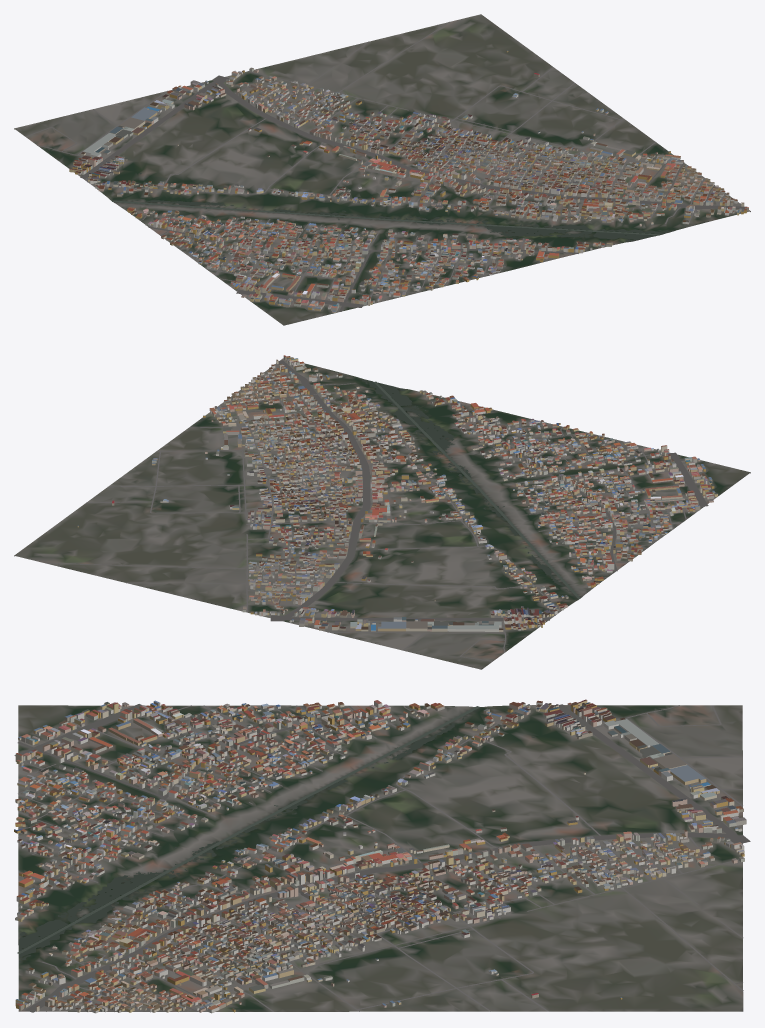
3 views of the same model, one above another, from view 1: azimuth 30°, elevation 25°; view 2: azimuth 150°, elevation 25°; view 3: azimuth 270°, elevation 25° (orthographic). The views are drawn at different scales.
Visible parts, largest first — view 1: ground, buildings, roads, water; view 2: ground, buildings, roads, water; view 3: ground, buildings, roads, water.
Part boxes in pixels (x1,y1,x2,y2): ground: [14, 14, 750, 325]; buildings: [69, 50, 748, 312]; roads: [25, 21, 746, 311]; water: [112, 173, 672, 241]; ground: [14, 358, 750, 669]; buildings: [77, 355, 717, 631]; roads: [45, 360, 708, 661]; water: [360, 378, 580, 601]; ground: [18, 705, 743, 1011]; buildings: [14, 699, 746, 1013]; roads: [14, 704, 750, 1012]; water: [17, 706, 535, 961].
Bounding box in the file's own units: 1419 × 27.56 × 1426.
